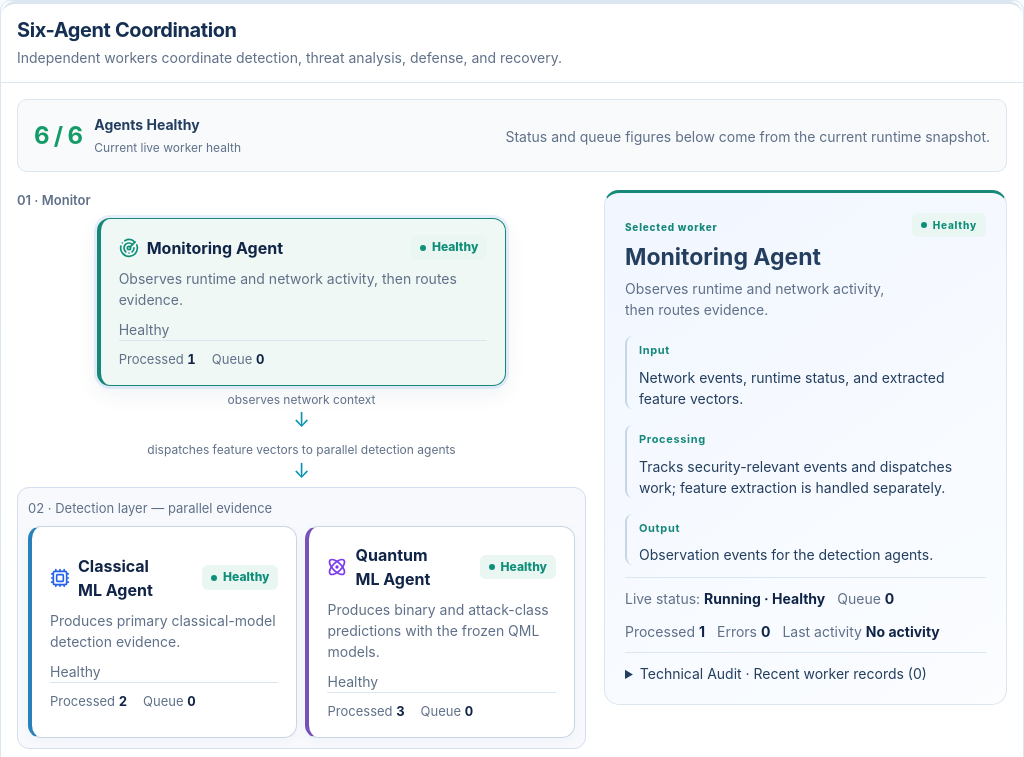
Scenario: Phase 4 visual presentation › connects six agents with parallel detection and keeps non-agents outside
Click the button "Quantum ML Agent": coordinates (440, 632) x1=306 y1=526 x2=575 y2=738
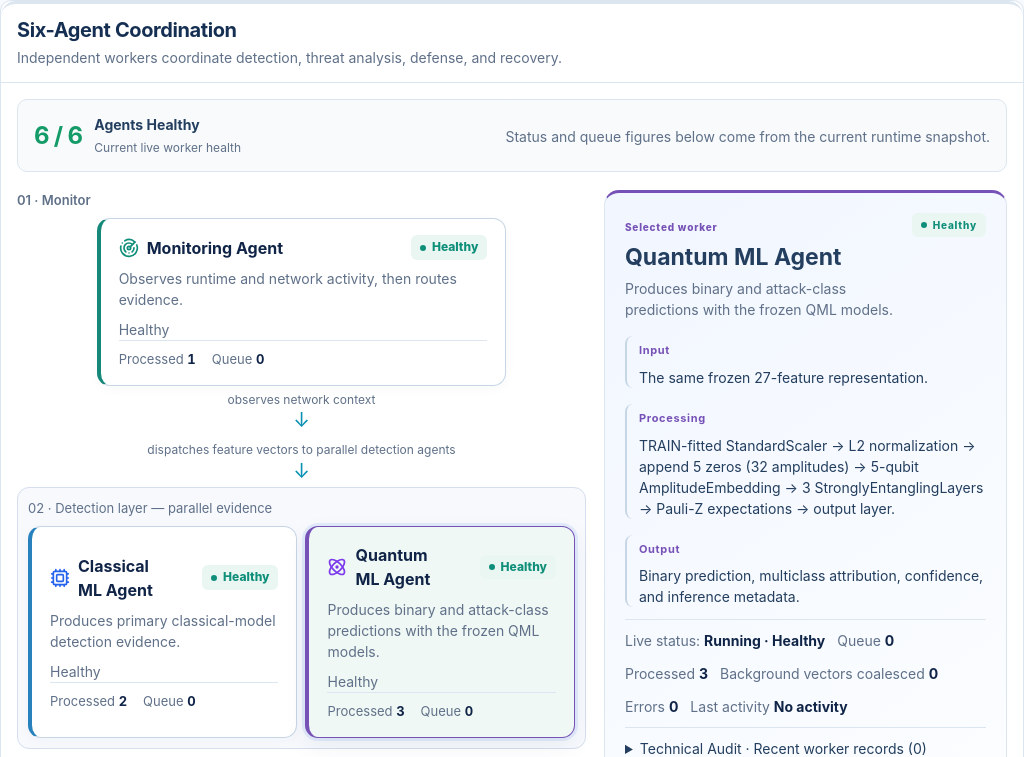
Expected: the text "TRAIN-fitted StandardScaler" is shown, x1=639 y1=437 x2=983 y2=517
Expected: the text "Input" is shown once, x1=639 y1=343 x2=670 y2=357
